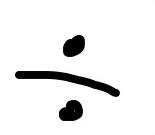div: (15, 33, 120, 121)
